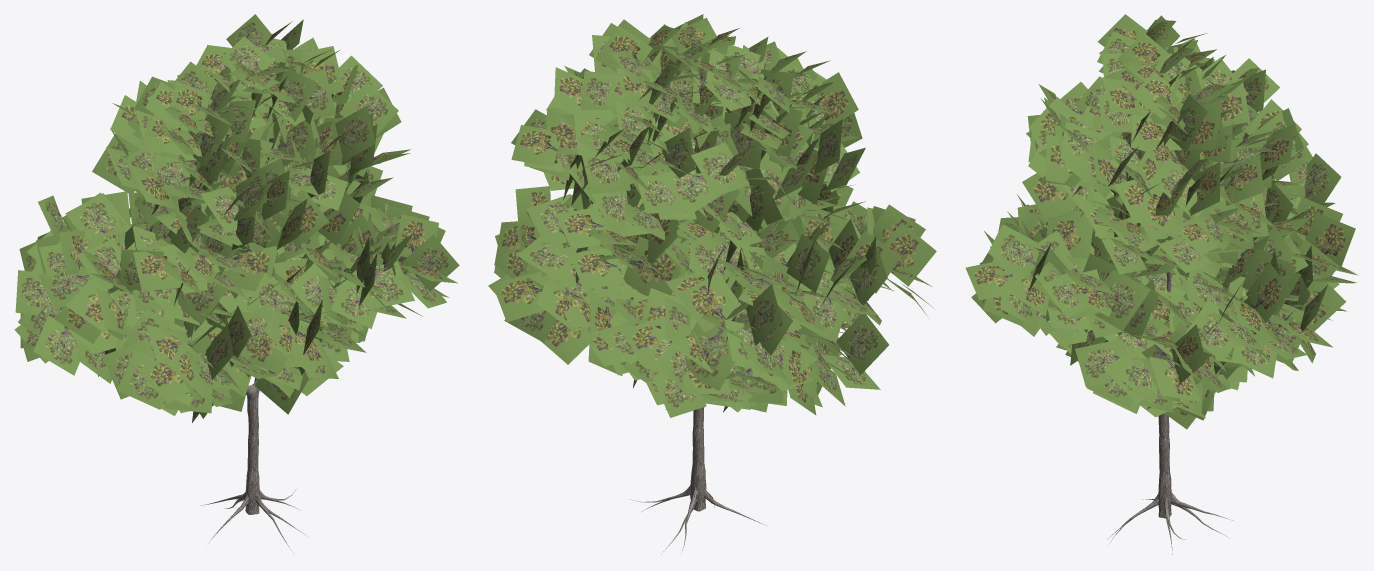
File: Japanese_Maple.glb
3 renders of one model, left to right at view 1: azimuth 30°, elevation 25°; view 2: azimuth 150°, elevation 25°; view 3: azimuth 270°, elevation 25°, orthographic. The views are drawn at different scales.
Parts seen in each view (by area): view 1: Japanese_Maple_Hero_17; view 2: Japanese_Maple_Hero_17; view 3: Japanese_Maple_Hero_17.
Part boxes in pixels (box(x1,y1,x2,y2)): Japanese_Maple_Hero_17: box(14, 14, 459, 550); Japanese_Maple_Hero_17: box(488, 14, 936, 554); Japanese_Maple_Hero_17: box(965, 14, 1357, 554).
Bounding box in the file's own units: 1.83 × 2.18 × 1.57.
Materials: 4 (4 with a texture image).
